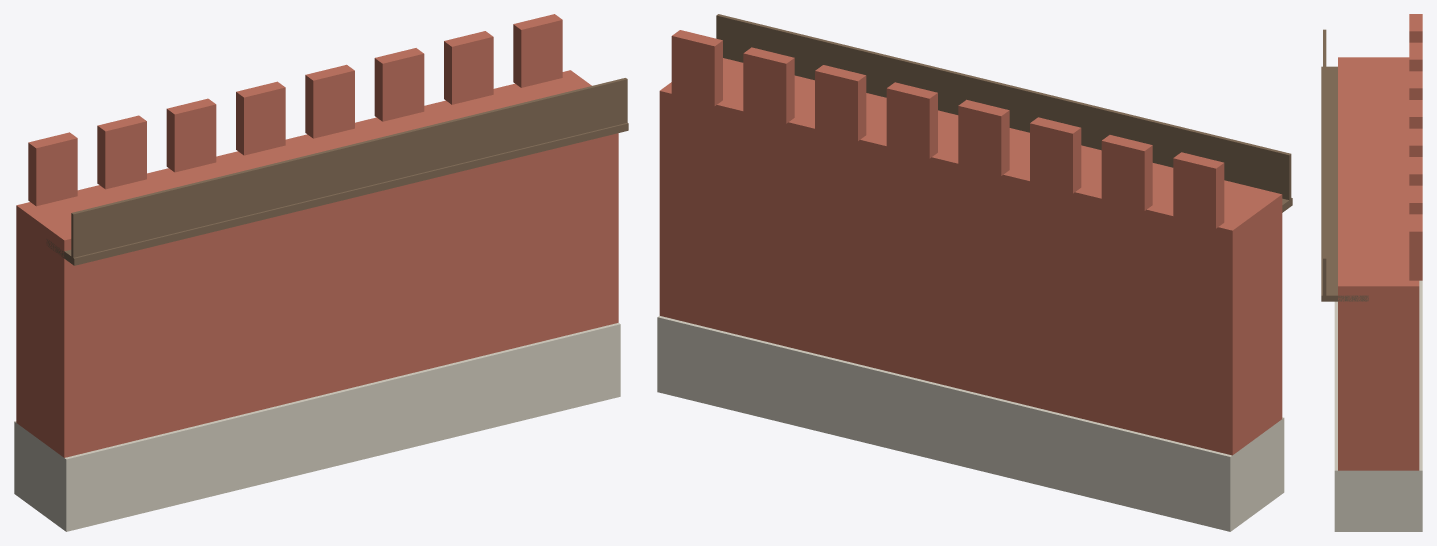
Rendered from curtain_wall.glb.
The picture shows the model from 3 angles, left to right: view 1: azimuth 30°, elevation 25°; view 2: azimuth 150°, elevation 25°; view 3: azimuth 270°, elevation 25°; orthographic projection. The views are drawn at different scales.
Parts seen in each view (by area): view 1: CurtainWall; view 2: CurtainWall; view 3: CurtainWall.
Boxes of the visible parts, x1,y1,x2,y2 form: CurtainWall: (14, 14, 628, 531); CurtainWall: (657, 14, 1292, 531); CurtainWall: (1321, 14, 1422, 531).
Bounding box in the file's own units: 16 × 9.6 × 3.
